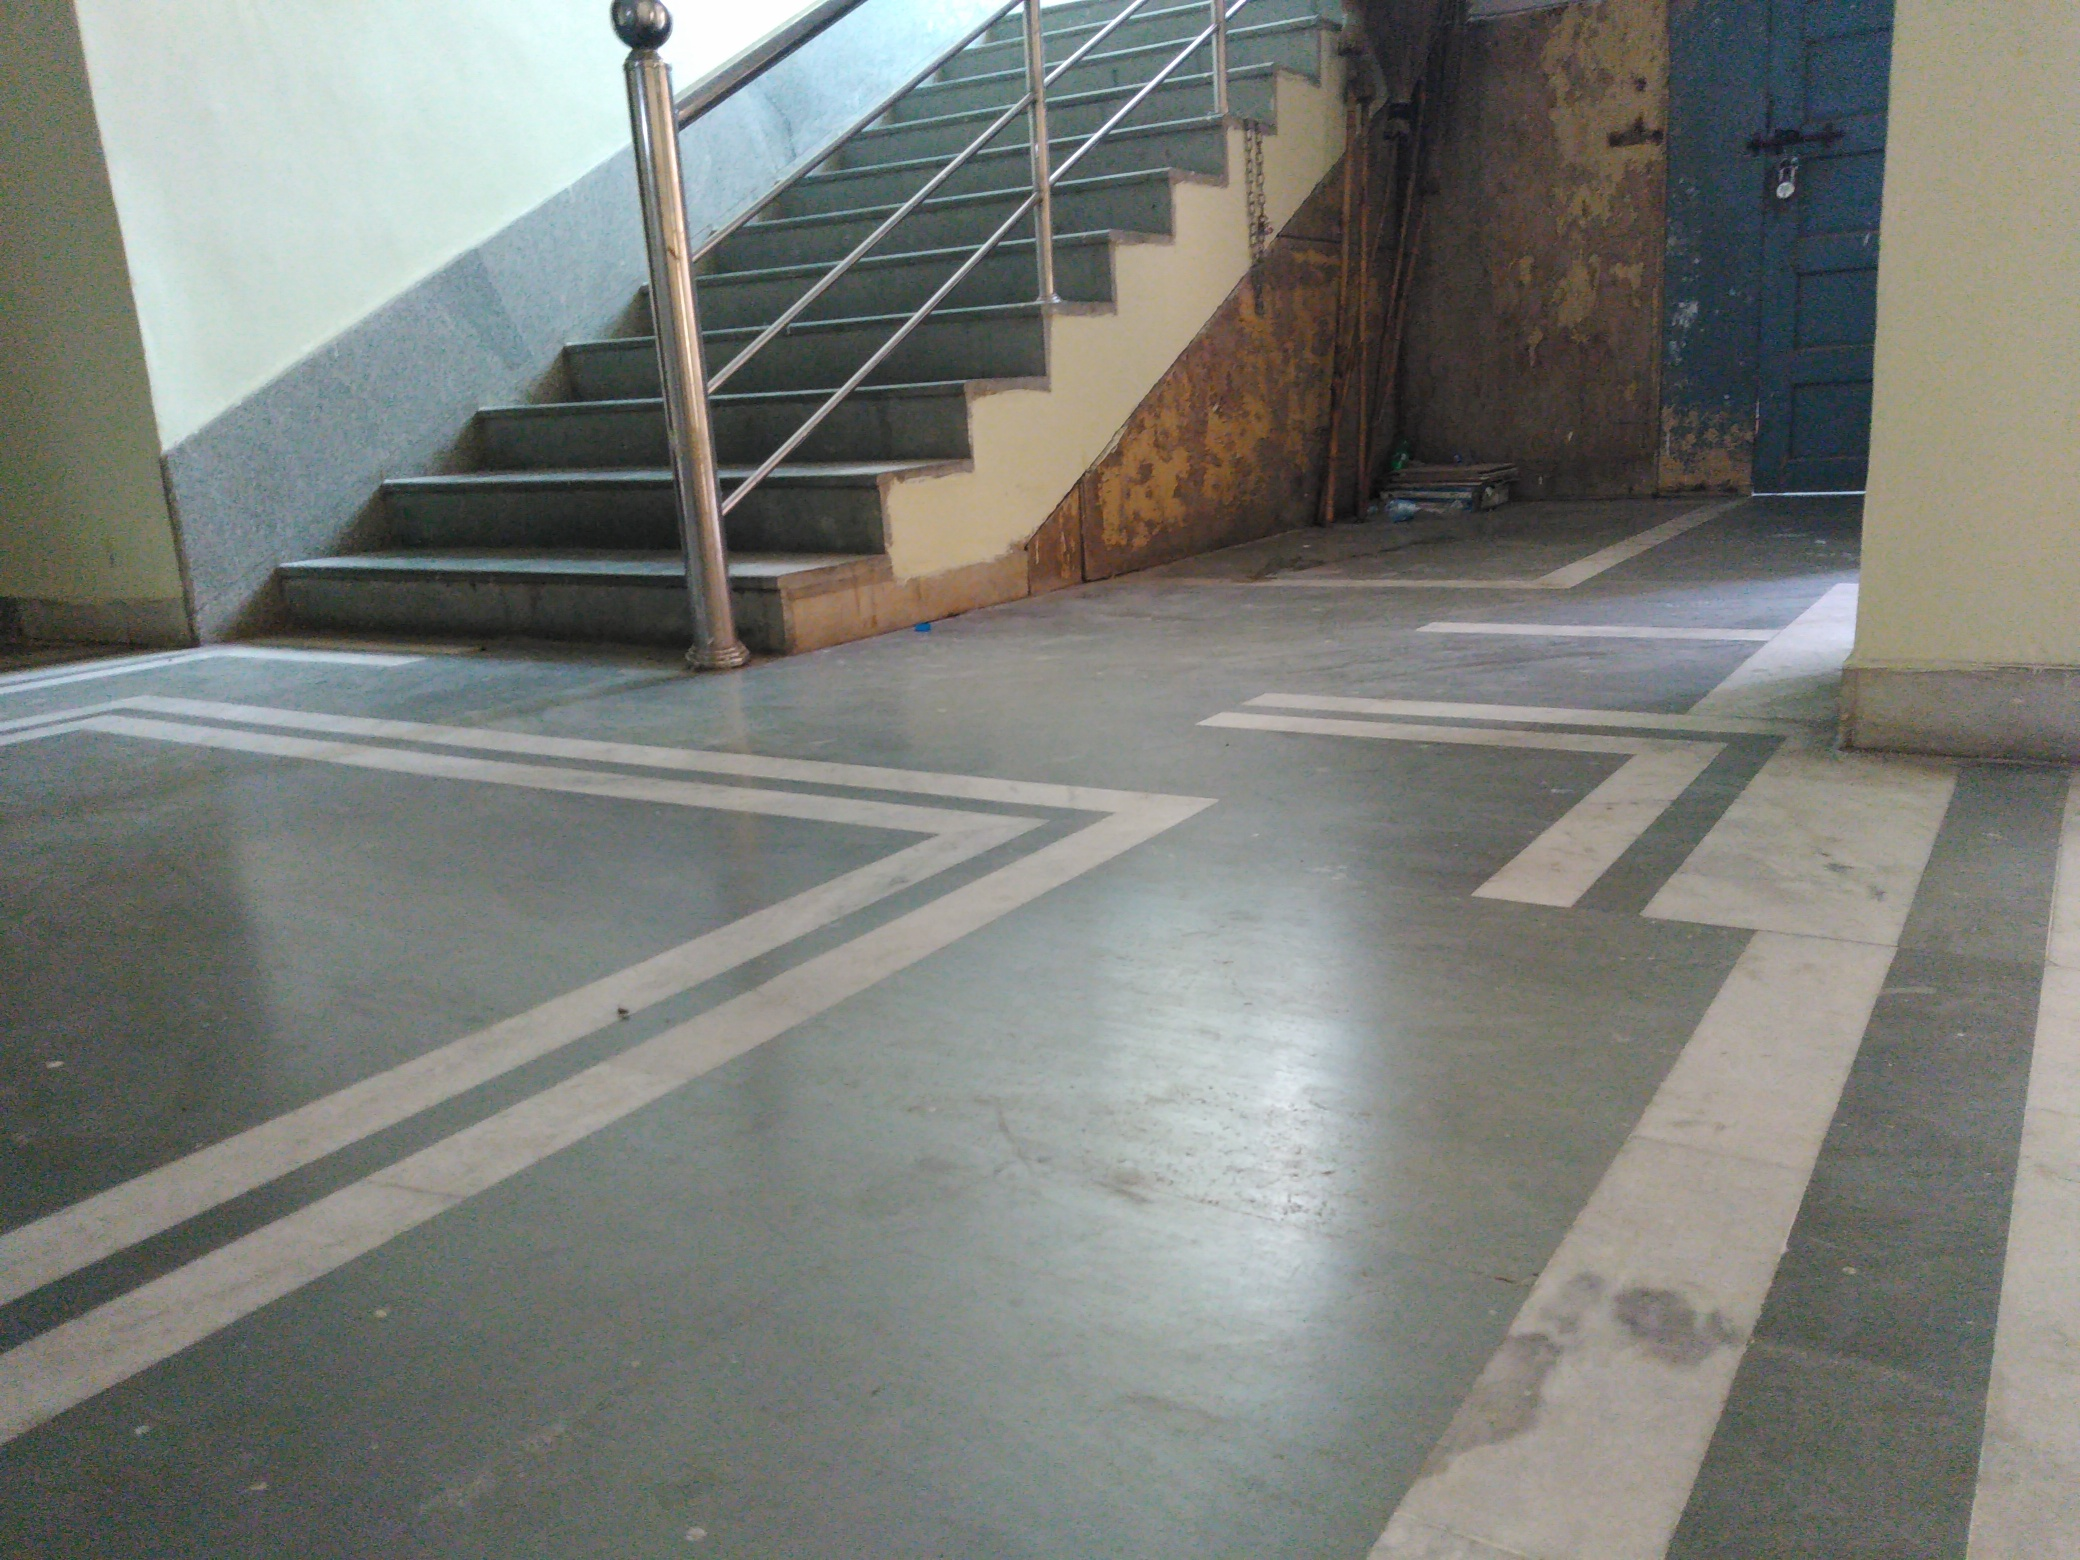stairs_up: (247, 21, 1186, 637)
